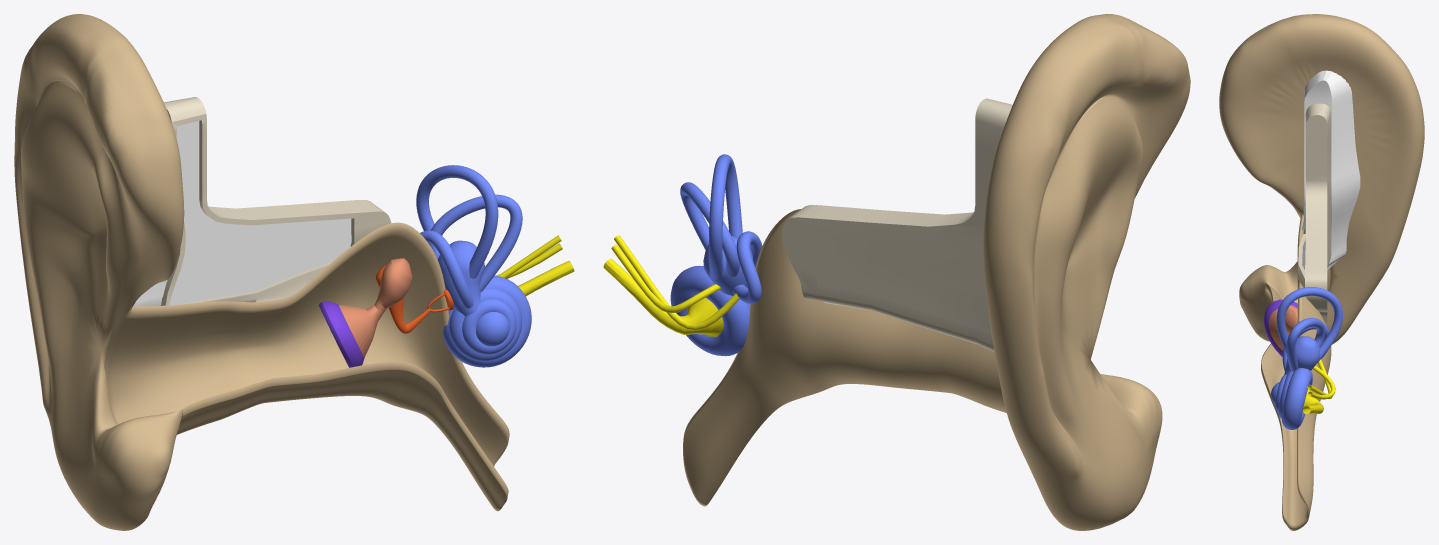
Rendered from duyu2.glb.
The picture shows the model from 3 angles, left to right: view 1: azimuth 30°, elevation 25°; view 2: azimuth 150°, elevation 25°; view 3: azimuth 270°, elevation 25°; orthographic projection. The views are drawn at different scales.
Visible parts, largest first — view 1: Plane.001, Cube.001, Cube, BezierCurve, Torus.002, Sphere.001, Cylinder, Sphere, Sphere.005, BezierCurve.002, BezierCurve.001; view 2: Plane.001, Cube, BezierCurve, Torus.002, BezierCurve.002, BezierCurve.001, Cylinder; view 3: Plane.001, Cube, Plane, BezierCurve, Torus.002, Cylinder, Sphere.001, BezierCurve.002, Sphere, BezierCurve.001.
Boxes of the visible parts, box(x1,y1,x2,y2) form: Plane.001: box(14, 14, 509, 530); Cube.001: box(169, 121, 351, 305); Cube: box(161, 97, 391, 305); BezierCurve: box(416, 165, 522, 308); Torus.002: box(443, 275, 531, 367); Sphere.001: box(339, 258, 412, 357); Cylinder: box(438, 240, 484, 316); Sphere: box(319, 301, 364, 367); Sphere.005: box(376, 265, 453, 333); BezierCurve.002: box(496, 235, 562, 278); BezierCurve.001: box(518, 260, 574, 296); Plane.001: box(683, 14, 1190, 530); Cube: box(781, 98, 1012, 351); BezierCurve: box(680, 154, 762, 303); Torus.002: box(670, 265, 750, 356); BezierCurve.002: box(611, 235, 740, 330); BezierCurve.001: box(603, 258, 723, 336); Cylinder: box(703, 236, 753, 295); Plane.001: box(1219, 14, 1424, 530); Cube: box(1298, 103, 1331, 323); Plane: box(1301, 70, 1360, 269); BezierCurve: box(1276, 287, 1342, 371); Torus.002: box(1271, 368, 1312, 429); Cylinder: box(1284, 336, 1319, 374); Sphere.001: box(1269, 305, 1297, 350); BezierCurve.002: box(1307, 359, 1335, 399); Sphere: box(1264, 299, 1297, 356); BezierCurve.001: box(1302, 389, 1323, 414).
Size of the model in its own units: 5.2 by 5.48 by 2.64.
